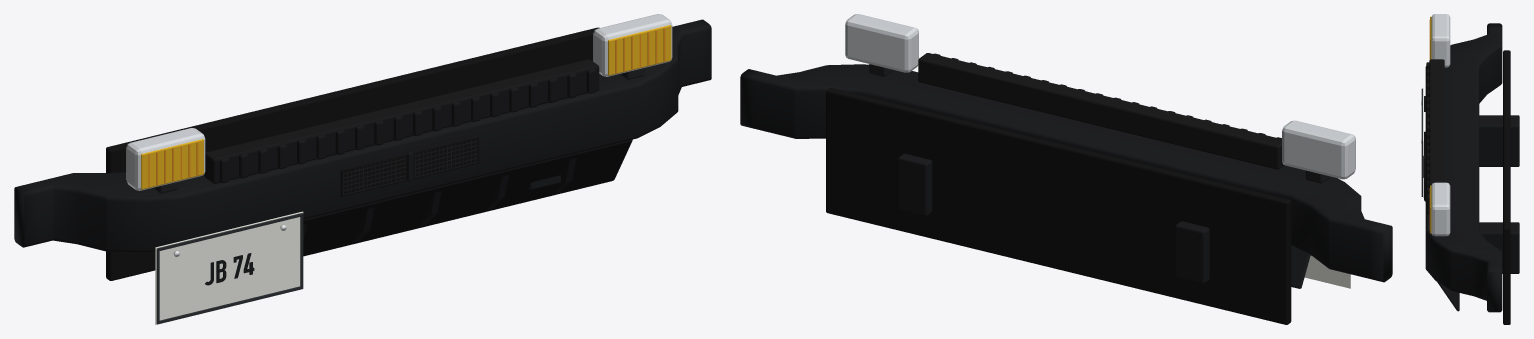
File: frontBumper_damd_little_g_trad.glb
The picture shows the model from 3 angles, left to right: view 1: azimuth 30°, elevation 25°; view 2: azimuth 150°, elevation 25°; view 3: azimuth 270°, elevation 25°; orthographic projection. The views are drawn at different scales.
Visible parts, largest first — view 1: beam.003, valance.018, skid.007, plate.021, ribBack, fogLens1.001, fogLens-1.001, fogHsg-1, fogHsg1, vent-1, vent1.001, plateRim21_0 (+2 smaller); view 2: valance.018, beam.003, ribBack, fogHsg-1, fogHsg1, mount-1.018, mount1.018, plate.021, skid.007; view 3: beam.003, valance.018, ribBack, mount-1.018, fogHsg1, mount1.018, fogHsg-1, skid.007, plateRim21_3, plate.021, plateRim21_0, fogLens1.001 (+1 smaller).
Part boxes in pixels (box(x1,y1,x2,y2)): beam.003: box(14, 19, 711, 252); valance.018: box(106, 27, 599, 280); skid.007: box(303, 139, 632, 256); plate.021: box(155, 211, 303, 324); ribBack: box(204, 59, 599, 183); fogLens1.001: box(608, 25, 671, 75); fogLens-1.001: box(141, 139, 203, 189); fogHsg-1: box(126, 128, 205, 190); fogHsg1: box(593, 14, 672, 76); vent-1: box(340, 153, 407, 196); vent1.001: box(413, 136, 479, 178); plateRim21_0: box(157, 213, 302, 251); valance.018: box(826, 88, 1291, 324); beam.003: box(740, 64, 1392, 282); ribBack: box(918, 53, 1284, 169); fogHsg-1: box(1282, 120, 1355, 179); fogHsg1: box(845, 14, 918, 72); mount-1.018: box(1175, 221, 1209, 283); mount1.018: box(898, 153, 932, 215); plate.021: box(1304, 255, 1350, 288); skid.007: box(1291, 246, 1310, 288); beam.003: box(1425, 23, 1502, 312); valance.018: box(1503, 50, 1510, 324); ribBack: box(1429, 59, 1444, 214); mount-1.018: box(1479, 115, 1519, 166); fogHsg1: box(1431, 182, 1450, 236); mount1.018: box(1479, 222, 1519, 273); fogHsg-1: box(1431, 14, 1450, 67); skid.007: box(1437, 282, 1459, 311); plateRim21_3: box(1421, 141, 1422, 196); plate.021: box(1423, 87, 1423, 197); plateRim21_0: box(1421, 88, 1422, 141); fogLens1.001: box(1430, 185, 1431, 233).
Size of the model in its own units: 1.53 by 0.3675 by 0.256.
